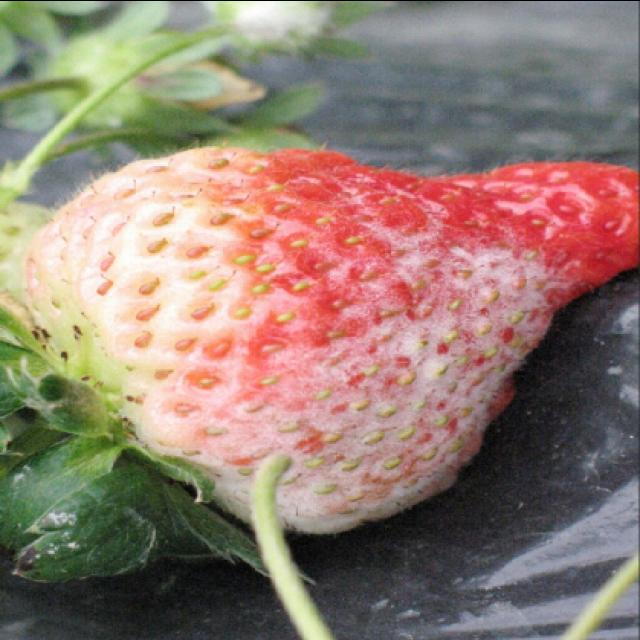Powdery Mildew Fruit: (0, 145, 589, 583)
